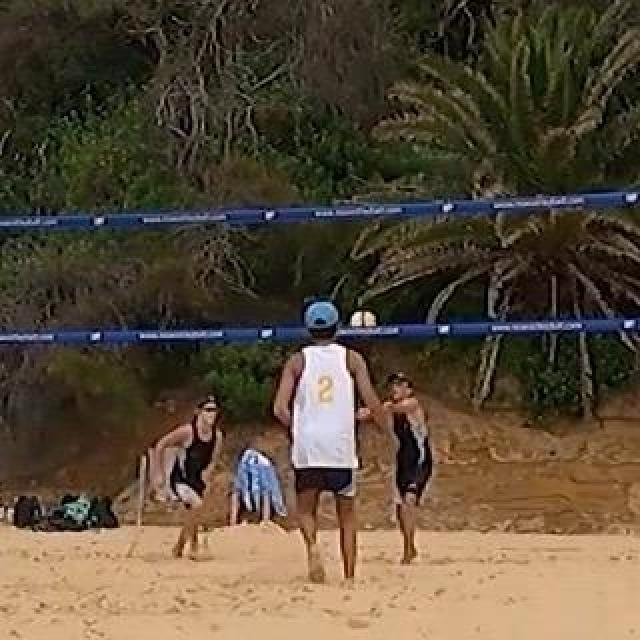volleyball: (349, 310, 377, 340)
